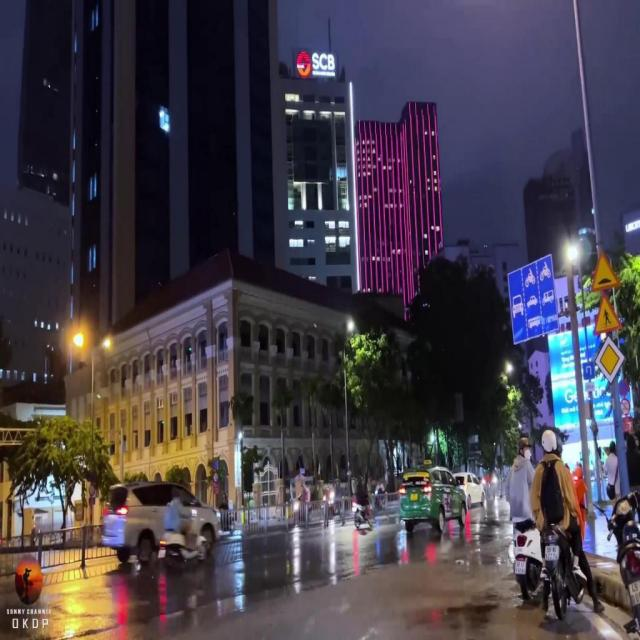cho_quay_xe: (582, 362, 594, 380)
chu_y_nguoi_di_bo_cat_ngang: (592, 292, 622, 334)
duong_co_song_map_mo_nhan_tao: (591, 246, 621, 292)
duong_uu_tien: (594, 335, 624, 383)
lan_duong_cho_tung_xe_theo_vach_ke_duong: (508, 254, 559, 344)
